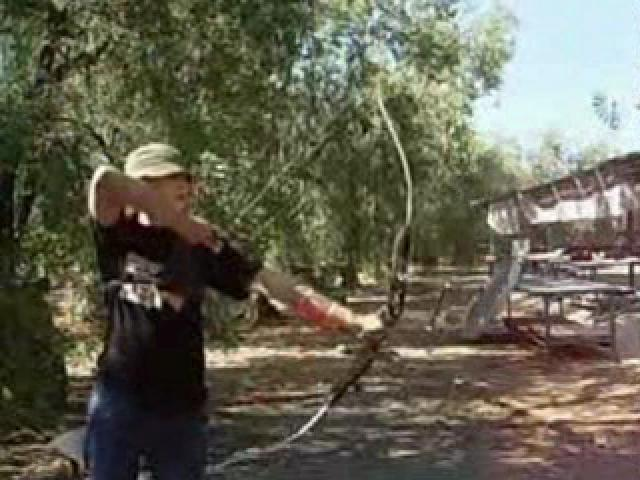I: (71, 126, 366, 480)
